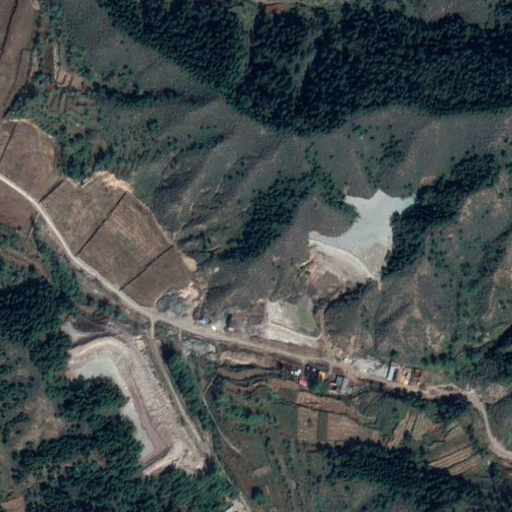tp: (63, 340, 187, 477), (301, 191, 416, 306)
